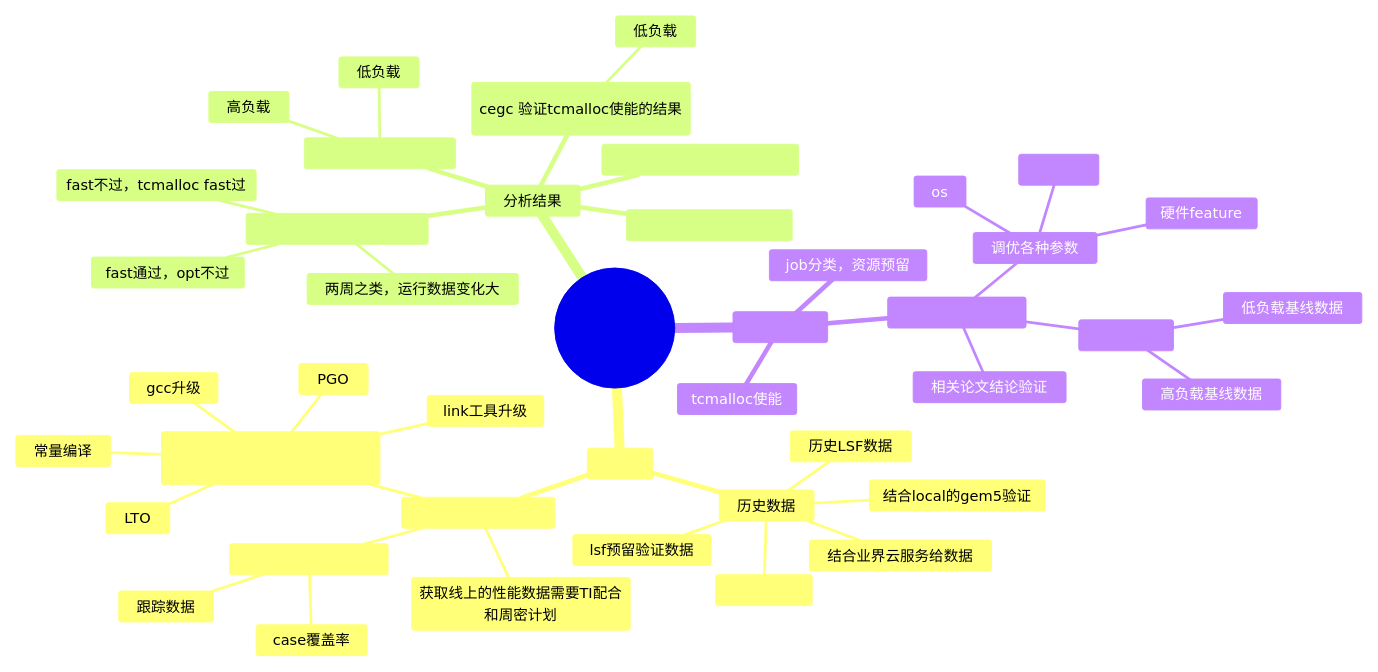
Image size: 1378x672. Some labels were removed from this diagram. Here are the shapes that lost their labels. From the top down, the box of each, then its label:
(303, 137, 455, 169): cegc profiling结果
(601, 143, 799, 175): LSF MP case的拥堵情况
(1018, 153, 1099, 185): 编译器
(245, 212, 428, 244): 分析性能时发展的问题
(626, 209, 792, 241): 从host负载角度分析
(554, 267, 675, 388): 高并发性能定位
(732, 311, 828, 343): 后续推进
(887, 296, 1026, 328): 详细的性能分析
(1078, 319, 1173, 351): 基线数据
(161, 431, 380, 485): 引入了新的优化后的变化情况
(586, 447, 653, 479): 现状
(401, 496, 555, 528): 缺少有效基线数据
(229, 543, 388, 575): mp的可信基线数据
(715, 574, 812, 606): cegc数据
